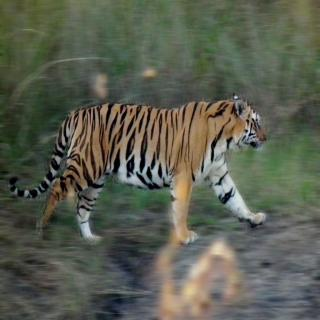Tiger: (8, 92, 267, 242)
